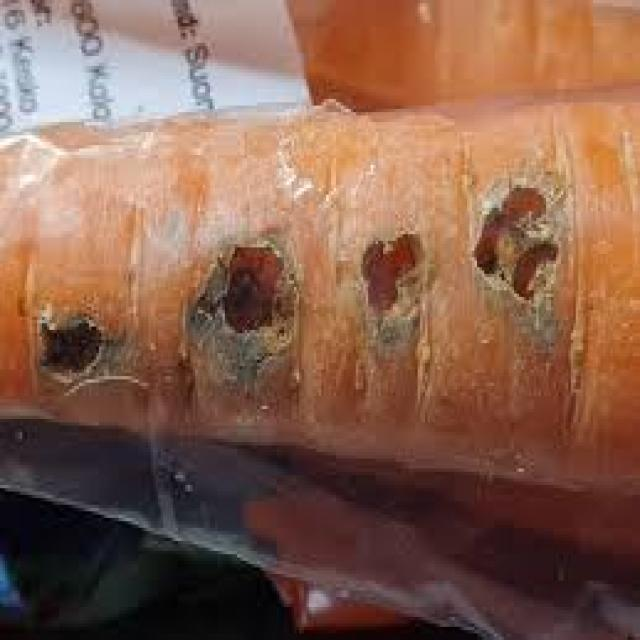Stale_Carrot: (2, 96, 640, 487)
